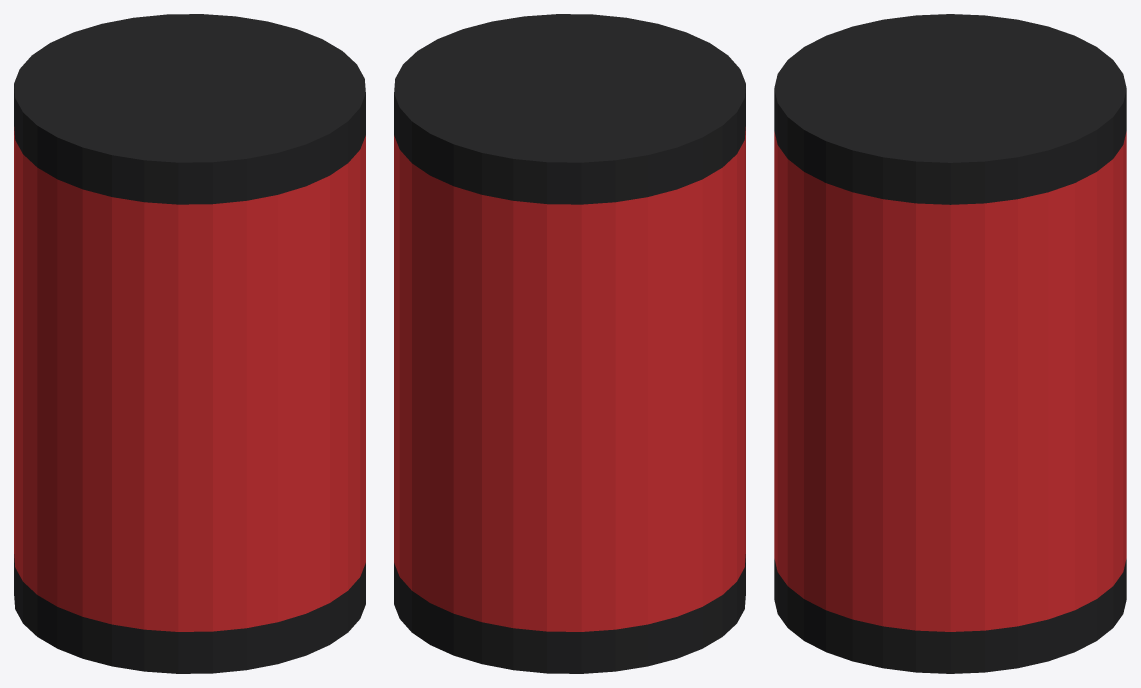
The model's file is Final Portal.fbx.
3 renders of one model, left to right at view 1: azimuth 30°, elevation 25°; view 2: azimuth 150°, elevation 25°; view 3: azimuth 270°, elevation 25°, orthographic.
Visible parts, largest first — view 1: Cylinder; view 2: Cylinder; view 3: Cylinder.
Part boxes in pixels (bbox=[...]): Cylinder: bbox=[14, 14, 365, 673]; Cylinder: bbox=[394, 14, 745, 673]; Cylinder: bbox=[774, 14, 1126, 673].
Size of the model in its own units: 100 by 160 by 100.
